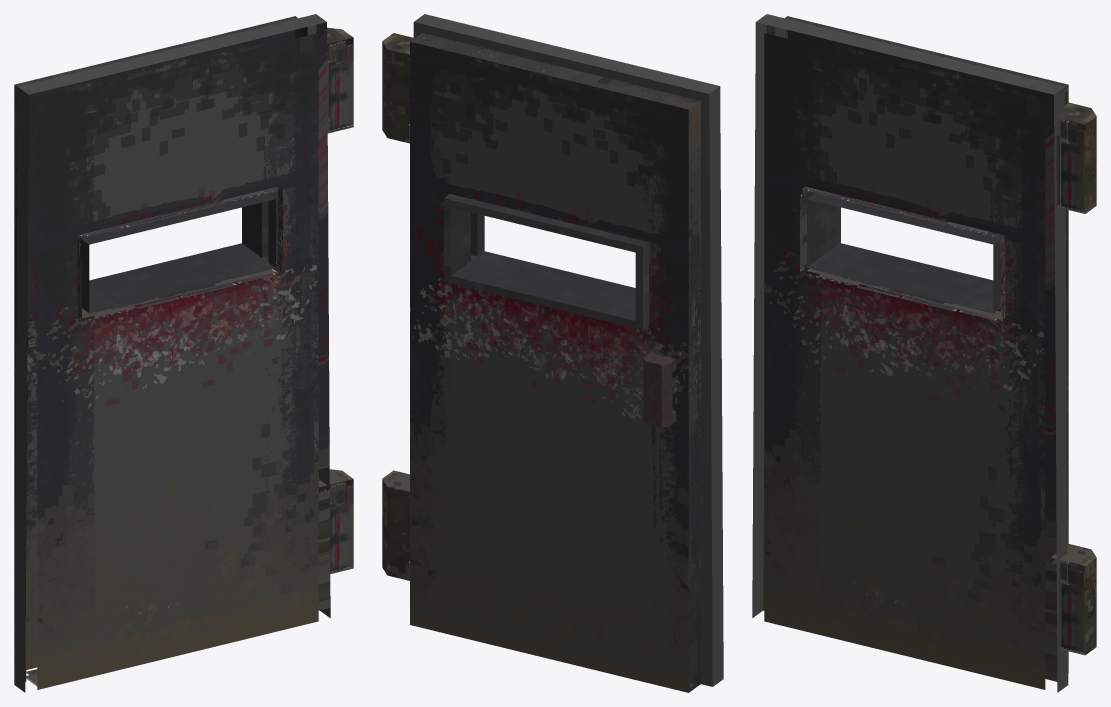
The model's file is DoorFix.FBX.
3 renders of one model, left to right at view 1: azimuth 30°, elevation 25°; view 2: azimuth 150°, elevation 25°; view 3: azimuth 330°, elevation 25°, orthographic.
Visible parts, largest first — view 1: Door; view 2: Door; view 3: Door.
Part boxes in pixels (bbox=[...]): Door: bbox=[14, 14, 353, 692]; Door: bbox=[382, 14, 723, 692]; Door: bbox=[752, 14, 1096, 692].
Size of the model in its own units: 16.47 by 28.42 by 3.26.
1 material, 1 textured.
